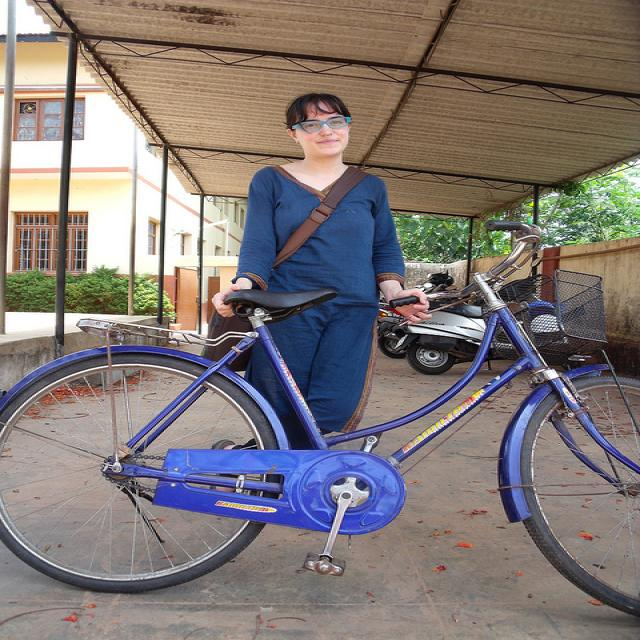motor: (380, 301, 485, 379), (375, 309, 413, 361)
